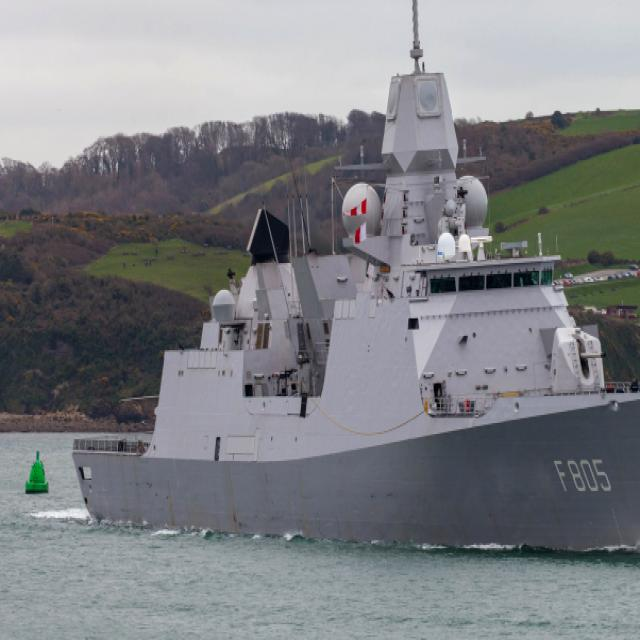Fragata: (71, 1, 640, 563)
